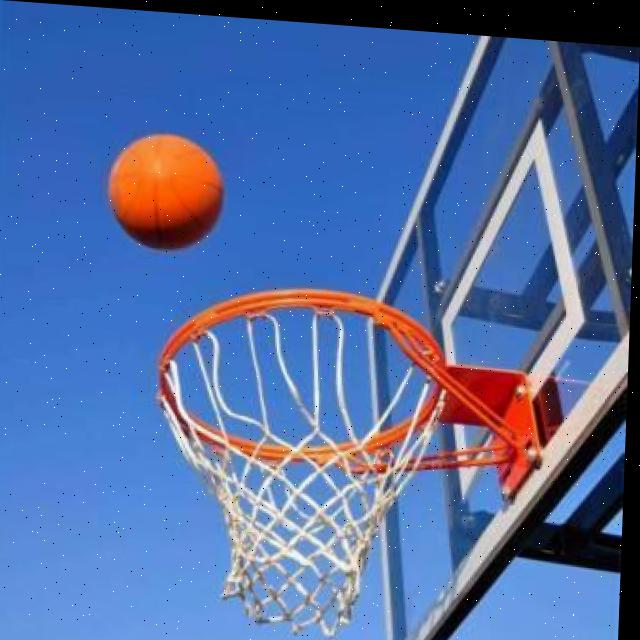basketball: (108, 129, 228, 257)
hoop: (147, 278, 453, 640)
